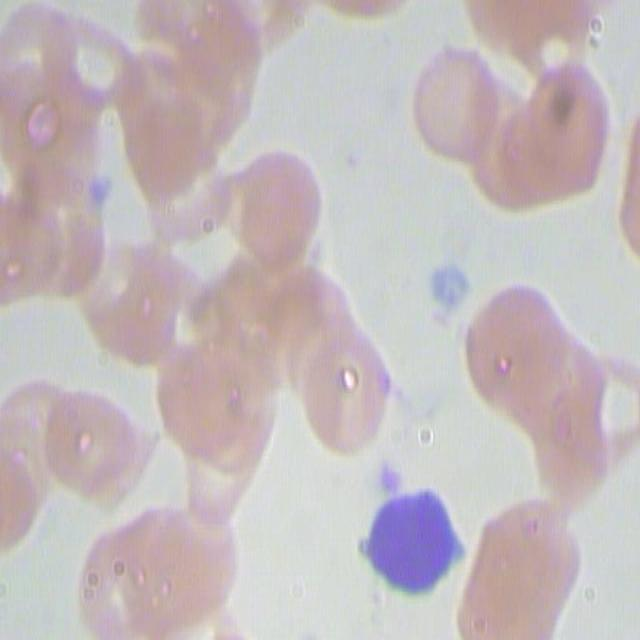RBC: (74, 511, 240, 640), (462, 504, 576, 640), (294, 338, 407, 451), (52, 383, 150, 510), (218, 174, 342, 266), (169, 0, 254, 126), (454, 2, 620, 66), (153, 370, 289, 448), (536, 78, 612, 216), (134, 248, 222, 363), (120, 78, 209, 190), (466, 312, 569, 408), (411, 63, 505, 165), (524, 373, 600, 499), (7, 77, 94, 186), (39, 179, 102, 307), (3, 11, 79, 115), (46, 15, 129, 105), (218, 0, 316, 72), (86, 259, 146, 365), (0, 180, 50, 303), (483, 92, 533, 214), (172, 438, 258, 508), (5, 394, 71, 484), (595, 339, 638, 471), (140, 175, 230, 235), (0, 448, 41, 543)
WBC: (354, 488, 467, 591)
platelets: (429, 258, 475, 316), (90, 168, 118, 223), (374, 458, 404, 495)
